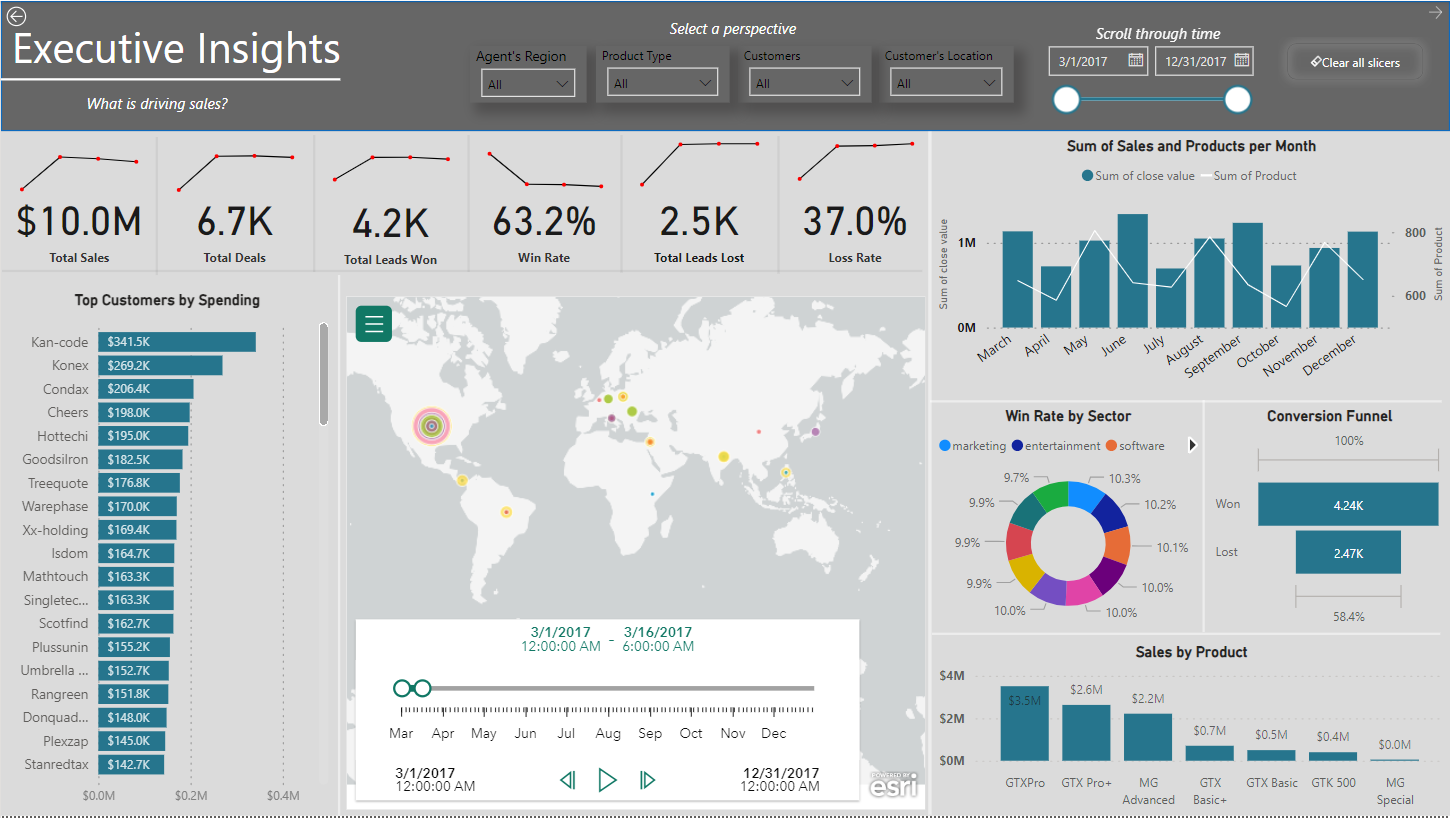

What the dashboard file says about the page in this screenshot:
{"tool":"powerbi","page":{"name":"Executive Summary","canvas":[1280,720],"ordinal":0},"visuals":[{"type":"shape","box":[0,0,1280,719.8],"z":0},{"type":"group","id":"g1","title":"Group 2","box":[414.7,10,480.6,79.9],"z":0,"group":"g4"},{"type":"group","id":"g2","title":"Group 3","box":[913,14,209,96],"z":1000,"group":"g4"},{"type":"shape","box":[1,235,813,7],"z":1000},{"type":"group","id":"g3","title":"Group 7","box":[814,115,459,604],"z":2000},{"type":"shape","box":[1058,353,10,205],"z":2000,"group":"g3"},{"type":"shape","box":[0,0,1280,114.9],"z":3000},{"type":"shape","box":[814,115,14,604],"z":4000,"group":"g3"},{"type":"shape","box":[132,120,12,122],"z":4000},{"type":"shape","box":[294,242,9,478],"z":5000},{"type":"shape","box":[262,118.7,28.7,121.3],"z":6000},{"type":"esriVisual","fields":{"Location":["accounts.office_location"],"Color":["sales_pipeline.product"],"Time":["sales_pipeline.close_date"],"Size":["sales_pipeline.totalWins"]},"box":[300,256,521,463],"z":7000},{"type":"shape","box":[398,118,29.3,121.3],"z":8000},{"type":"shape","box":[534,118.7,29.2,121.6],"z":9000},{"type":"shape","box":[672.1,119.6,29.2,121.6],"z":10000},{"type":"actionButton","box":[0,0,32.1,27.2],"z":11000},{"type":"cardVisual","title":"Total lost deal","fields":{"Data":["sales_pipeline.totalLossesCount"]},"box":[548,162,138.7,77.3],"z":11000,"group":"g6"},{"type":"lineClusteredColumnComboChart","title":"Sum of Sales and Products per Month","fields":{"Category":["sales_pipeline.close_date.Variation.Date Hierarchy.Month"],"Y":["Sum(sales_pipeline.close_value)"],"Y2":["CountNonNull(sales_pipeline.product)"]},"box":[823,120,457,233],"z":12000},{"type":"cardVisual","title":"Total lost deal","fields":{"Data":["sales_pipeline.lossRate"]},"box":[686.7,162,136,76.7],"z":12000,"group":"g6"},{"type":"cardVisual","title":"Total lost deal","fields":{"Data":["sales_pipeline.totalDeals"]},"box":[138,162,137.3,76.7],"z":13000,"group":"g6"},{"type":"donutChart","title":"Win Rate by Sector","fields":{"Category":["accounts.sector"],"Y":["sales_pipeline.winRate"]},"box":[823,359,239,199],"z":13000},{"type":"cardVisual","title":"Total lost deal","fields":{"Data":["sales_pipeline.totalSales"]},"box":[0,162,138,76.7],"z":14000,"group":"g6"},{"type":"lineStackedColumnComboChart","title":"Sales by Product","fields":{"Y":["sales_pipeline.totalSales"],"Category":["sales_pipeline.product"]},"box":[823,567,457,153],"z":14000},{"type":"cardVisual","title":"Total lost deal","fields":{"Data":["sales_pipeline.winRate"]},"box":[411.3,162,136.7,76.7],"z":15000,"group":"g6"},{"type":"clusteredBarChart","title":"Top Customers by Spending","fields":{"Category":["sales_pipeline.account"],"Y":["sales_pipeline.totalSales"]},"box":[0,256,294,464],"z":15000},{"type":"textbox","box":[4.5,10.1,390.2,59.8],"z":16000},{"type":"lineChart","fields":{"Y":["sales_pipeline.totalSales"],"Category":["sales_pipeline.close_date.Variation.Date Hierarchy.Quarter"]},"box":[0,110,138,64],"z":16000,"group":"g5"},{"type":"lineChart","fields":{"Y":["sales_pipeline.totalWinsCount"],"Category":["sales_pipeline.close_date.Variation.Date Hierarchy.Quarter"]},"box":[276.7,117.3,136.7,60.7],"z":17000,"group":"g5"},{"type":"funnel","title":"Conversion Funnel","fields":{"Category":["sales_pipeline.deal_stage"],"Y":["CountNonNull(sales_pipeline.deal_stage)"]},"box":[1069,359,211,199],"z":17000},{"type":"shape","box":[0,63,299.8,13],"z":18000},{"type":"lineChart","fields":{"Y":["sales_pipeline.winRate"],"Category":["sales_pipeline.close_date.Variation.Date Hierarchy.Quarter"]},"box":[413,110,135,61],"z":18000,"group":"g5"},{"type":"textbox","box":[17,75.9,241.8,34],"z":19000},{"type":"lineChart","fields":{"Y":["sales_pipeline.totalLossesCount"],"Category":["sales_pipeline.close_date.Variation.Date Hierarchy.Quarter"]},"box":[548,110,139,64],"z":19000,"group":"g5"},{"type":"actionButton","box":[1127.8,29.3,136.5,48.5],"z":20000},{"type":"lineChart","fields":{"Y":["sales_pipeline.lossRate"],"Category":["sales_pipeline.close_date.Variation.Date Hierarchy.Quarter"]},"box":[687,110,136,64],"z":20000,"group":"g5"},{"type":"group","id":"g4","title":"Group 4","box":[414.7,10,707.3,100],"z":21000},{"type":"shape","box":[823,553,449,12],"z":21000,"group":"g3"},{"type":"group","id":"g5","title":"Group 5","box":[0,110,823,68],"z":22000},{"type":"shape","box":[821,347,452,13],"z":22000,"group":"g3"},{"type":"group","id":"g6","title":"Group 6","box":[0,162,822.7,78],"z":23000},{"type":"actionButton","box":[1256.7,0,23.3,20.4],"z":24000},{"type":"slicer","fields":{"Values":["sales_pipeline.close_date"]},"box":[913,30,200.8,80],"z":29000,"group":"g2"},{"type":"slicer","title":"Agent''s Region","fields":{"Values":["sales_teams.regional_office"]},"box":[414.7,40,102.9,50],"z":30000,"group":"g7"},{"type":"slicer","title":"Customer''s Location","fields":{"Values":["accounts.office_location"]},"box":[776.4,40,118.9,50],"z":31000,"group":"g7"},{"type":"cardVisual","title":"Total lost deal","fields":{"Data":["sales_pipeline.totalWinsCount"]},"box":[275.3,163.3,137.3,76.7],"z":31000,"group":"g6"},{"type":"slicer","title":"Customers","fields":{"Values":["accounts.account"]},"box":[651.5,40,117.9,50],"z":32000,"group":"g7"},{"type":"slicer","title":"Product Type","fields":{"Values":["products.product"]},"box":[525.6,40,117.9,50],"z":33000,"group":"g7"},{"type":"textbox","box":[525.6,10,241.8,34],"z":34000,"group":"g1"},{"type":"lineChart","fields":{"Y":["sales_pipeline.totalDeals"],"Category":["sales_pipeline.close_date.Variation.Date Hierarchy.Quarter"]},"box":[139,113,137,63],"z":34000,"group":"g5"},{"type":"textbox","box":[923.8,14,198.2,38],"z":38001,"group":"g2"},{"type":"group","id":"g7","title":"Group 1","box":[414.7,40,480.6,50],"z":38002,"group":"g1"}]}

Visuals, with their boxes in screenshot pixels (x1, y1, x2, y2), scaled from the page's 1280x720 canvas onto the 1450x818 screenshot:
shape: locate(0, 0, 1449, 817)
"Group 2" group: locate(470, 11, 1014, 102)
"Group 3" group: locate(1034, 16, 1271, 125)
shape: locate(1, 267, 922, 275)
"Group 7" group: locate(922, 131, 1442, 817)
shape: locate(1199, 401, 1210, 634)
shape: locate(0, 0, 1449, 131)
shape: locate(922, 131, 938, 817)
shape: locate(150, 136, 163, 275)
shape: locate(333, 275, 343, 817)
shape: locate(297, 135, 329, 273)
esriVisual - accounts.office_location x sales_pipeline.product: locate(340, 291, 930, 817)
shape: locate(451, 134, 484, 272)
shape: locate(605, 135, 638, 273)
shape: locate(761, 136, 794, 274)
actionButton: locate(0, 0, 36, 31)
"Total lost deal" cardVisual: locate(621, 184, 778, 272)
"Sum of Sales and Products per Month" lineClusteredColumnComboChart: locate(932, 136, 1449, 401)
"Total lost deal" cardVisual: locate(778, 184, 932, 271)
"Total lost deal" cardVisual: locate(156, 184, 312, 271)
"Win Rate by Sector" donutChart: locate(932, 408, 1203, 634)
"Total lost deal" cardVisual: locate(0, 184, 156, 271)
"Sales by Product" lineStackedColumnComboChart: locate(932, 644, 1449, 817)
"Total lost deal" cardVisual: locate(466, 184, 621, 271)
"Top Customers by Spending" clusteredBarChart: locate(0, 291, 333, 817)
textbox: locate(5, 11, 447, 79)
lineChart - sales_pipeline.totalSales x sales_pipeline.close_date.Variation.Date Hierarchy.Quarter: locate(0, 125, 156, 198)
lineChart - sales_pipeline.totalWinsCount x sales_pipeline.close_date.Variation.Date Hierarchy.Quarter: locate(313, 133, 468, 202)
"Conversion Funnel" funnel: locate(1211, 408, 1449, 634)
shape: locate(0, 72, 340, 86)
lineChart - sales_pipeline.winRate x sales_pipeline.close_date.Variation.Date Hierarchy.Quarter: locate(468, 125, 621, 194)
textbox: locate(19, 86, 293, 125)
lineChart - sales_pipeline.totalLossesCount x sales_pipeline.close_date.Variation.Date Hierarchy.Quarter: locate(621, 125, 778, 198)
actionButton: locate(1278, 33, 1432, 88)
lineChart - sales_pipeline.lossRate x sales_pipeline.close_date.Variation.Date Hierarchy.Quarter: locate(778, 125, 932, 198)
"Group 4" group: locate(470, 11, 1271, 125)
shape: locate(932, 628, 1441, 642)
"Group 5" group: locate(0, 125, 932, 202)
shape: locate(930, 394, 1442, 409)
"Group 6" group: locate(0, 184, 932, 273)
actionButton: locate(1424, 0, 1449, 23)
slicer - sales_pipeline.close_date: locate(1034, 34, 1262, 125)
"Agent''s Region" slicer: locate(470, 45, 586, 102)
"Customer''s Location" slicer: locate(880, 45, 1014, 102)
"Total lost deal" cardVisual: locate(312, 186, 467, 273)
"Customers" slicer: locate(738, 45, 872, 102)
"Product Type" slicer: locate(595, 45, 729, 102)
textbox: locate(595, 11, 869, 50)
lineChart - sales_pipeline.totalDeals x sales_pipeline.close_date.Variation.Date Hierarchy.Quarter: locate(157, 128, 313, 200)
textbox: locate(1046, 16, 1271, 59)
"Group 1" group: locate(470, 45, 1014, 102)
